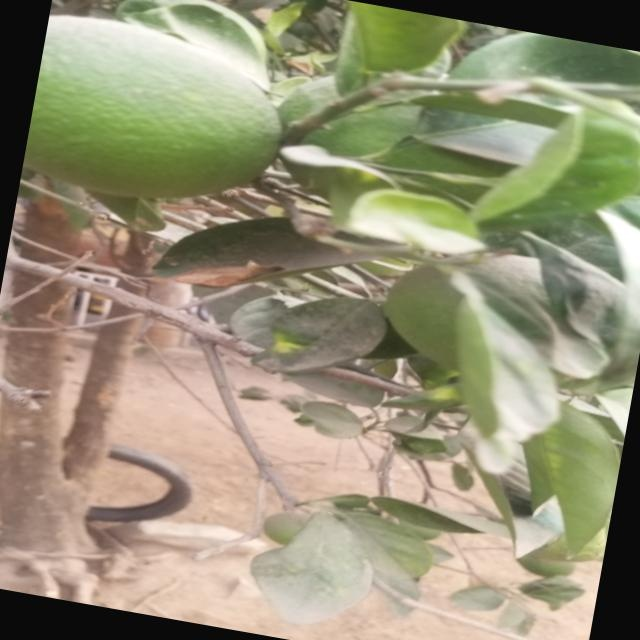agrume: (19, 4, 328, 237)
